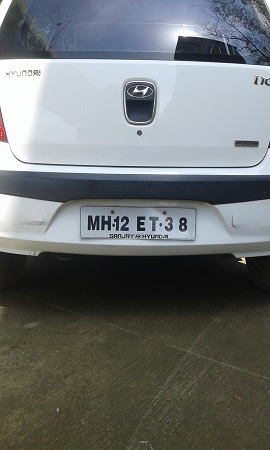licenseplate: (77, 203, 198, 243)
